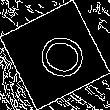O_W: (24, 26, 86, 84)
